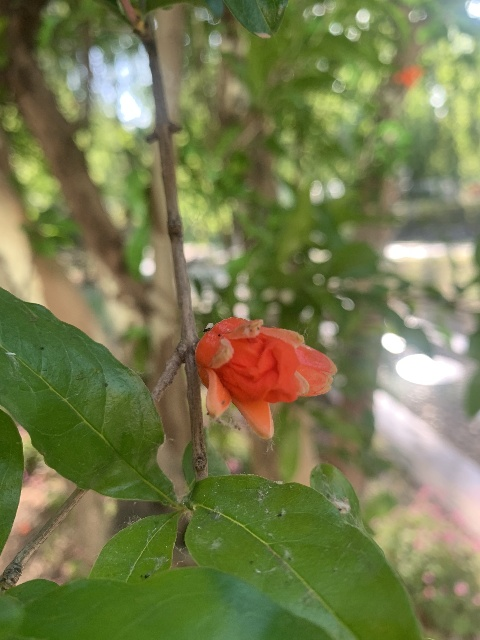flower: (194, 316, 336, 438)
